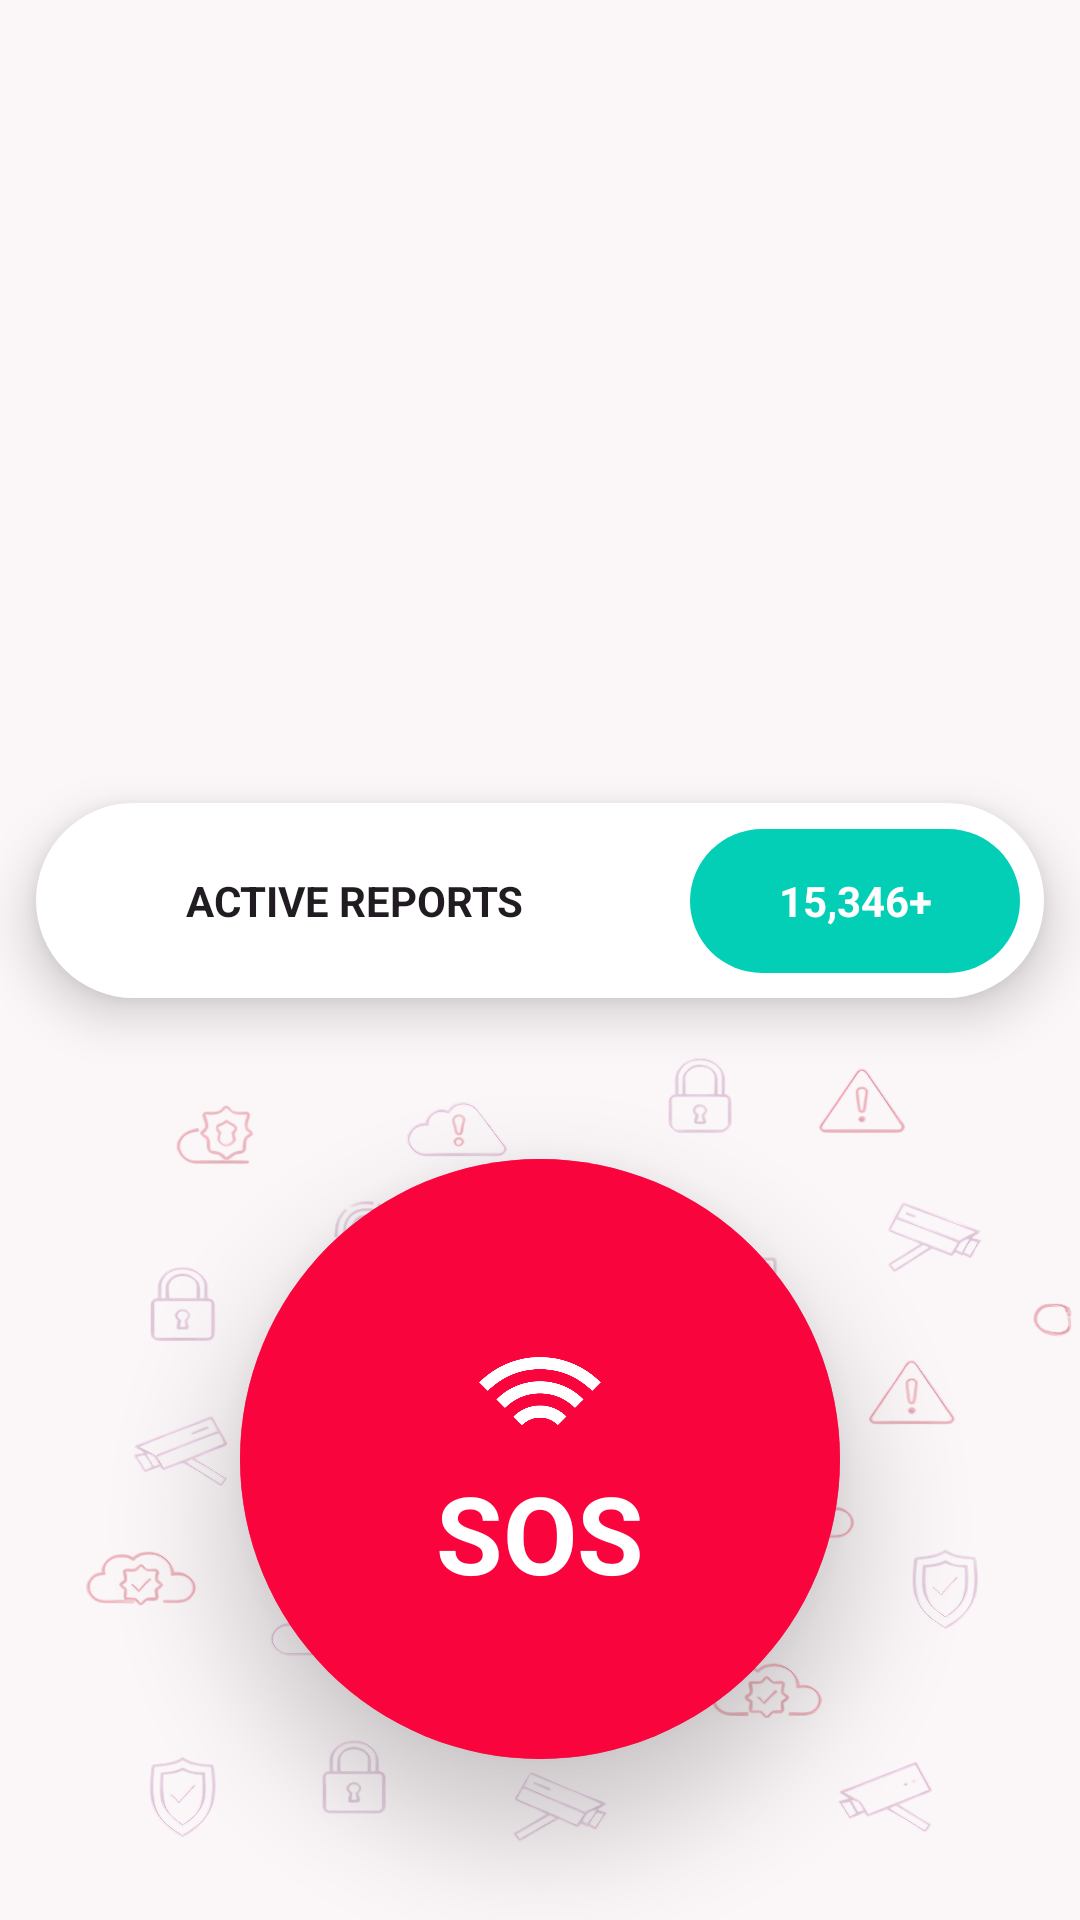

Where icons sit on this 1080px x 1920px app screen, as (x1, y1, x2, y2):
sos wifi: (479, 1357, 601, 1425)
